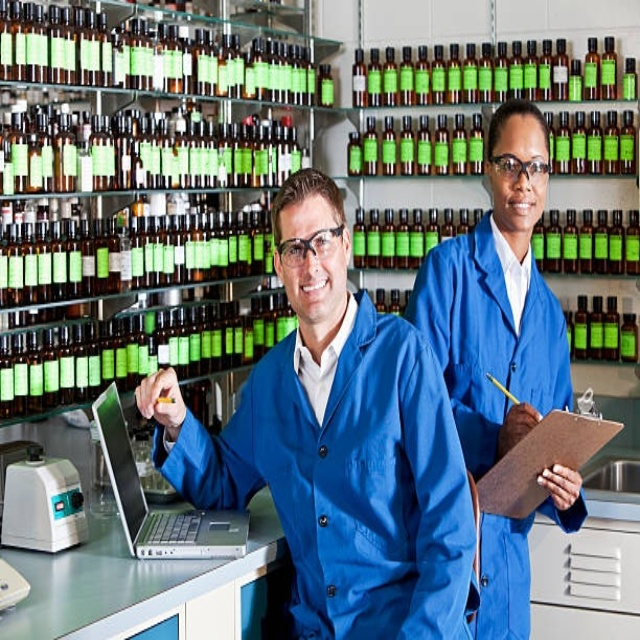Gafas: (278, 225, 342, 268), (489, 156, 550, 183)
Sin_guantes: (496, 399, 544, 460), (134, 365, 182, 425), (534, 460, 583, 512)
Sin_mascara: (298, 273, 333, 309), (506, 195, 538, 226)
